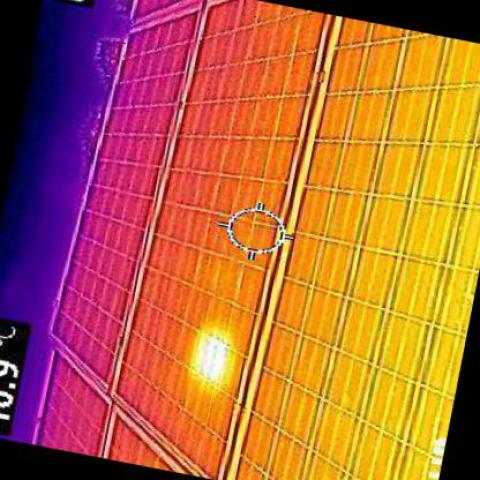fault: (194, 330, 236, 374)
